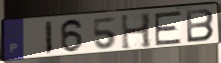5: (92, 15, 118, 51)
6: (59, 18, 86, 55)
B: (185, 8, 216, 44)
E: (153, 10, 184, 47)
H: (119, 12, 154, 51)
I: (44, 20, 54, 56)
